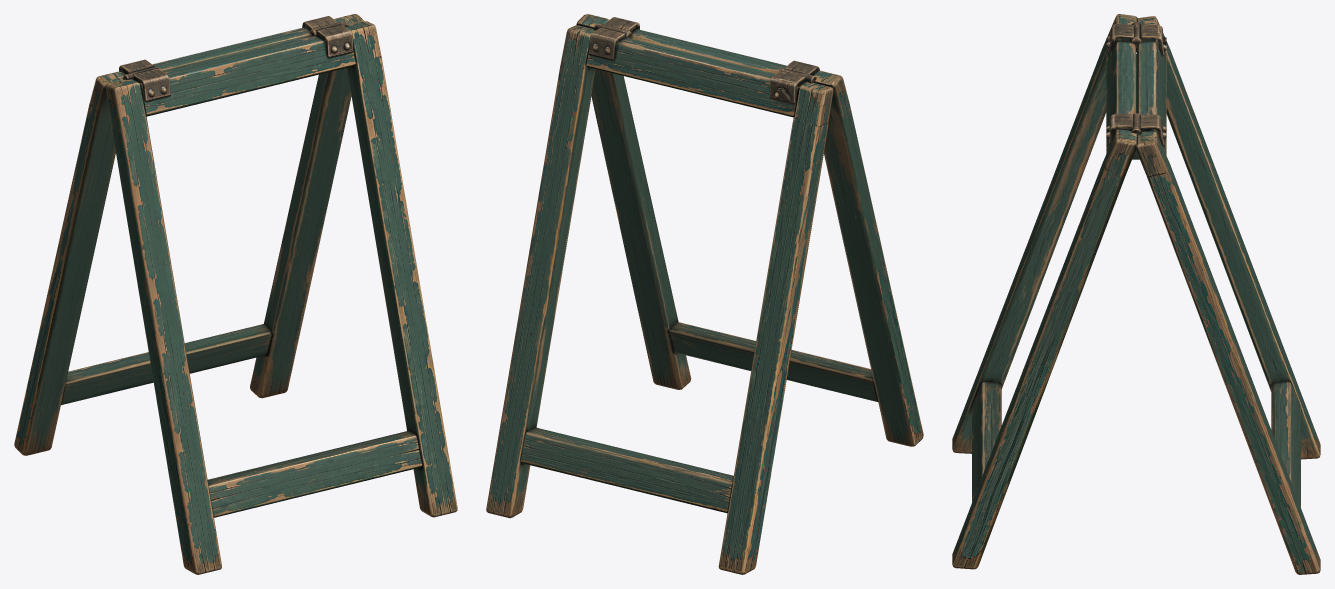
File: P12_menu_a_board_Runtime_1k.glb
3 renders of one model, left to right at view 1: azimuth 30°, elevation 25°; view 2: azimuth 150°, elevation 25°; view 3: azimuth 270°, elevation 25°, orthographic.
Parts seen in each view (by area): view 1: b1bd0b98_fea0_4b48_bdd6_60bf208bf258; view 2: b1bd0b98_fea0_4b48_bdd6_60bf208bf258; view 3: b1bd0b98_fea0_4b48_bdd6_60bf208bf258.
Part boxes in pixels (box(x1,y1,x2,y2)): b1bd0b98_fea0_4b48_bdd6_60bf208bf258: box(14, 14, 457, 574); b1bd0b98_fea0_4b48_bdd6_60bf208bf258: box(486, 14, 923, 574); b1bd0b98_fea0_4b48_bdd6_60bf208bf258: box(952, 14, 1320, 574).
Bounding box in the file's own units: 0.5729 × 0.9 × 0.6872.
1 material, 1 textured.
